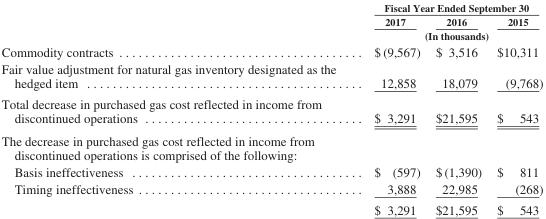table: (0, 1, 542, 216)
table column: (0, 1, 354, 216), (354, 1, 427, 216), (427, 1, 488, 216), (488, 1, 542, 216)
table column header: (0, 1, 542, 42)
table projected row header: (0, 129, 542, 163)
table row: (0, 92, 542, 129), (0, 129, 542, 163), (0, 59, 542, 92), (0, 180, 542, 198), (0, 198, 542, 216), (0, 42, 542, 59), (0, 163, 542, 180), (0, 14, 542, 28), (0, 28, 542, 42), (0, 1, 542, 14)
table spanning cell: (354, 28, 542, 42), (354, 1, 542, 14)
